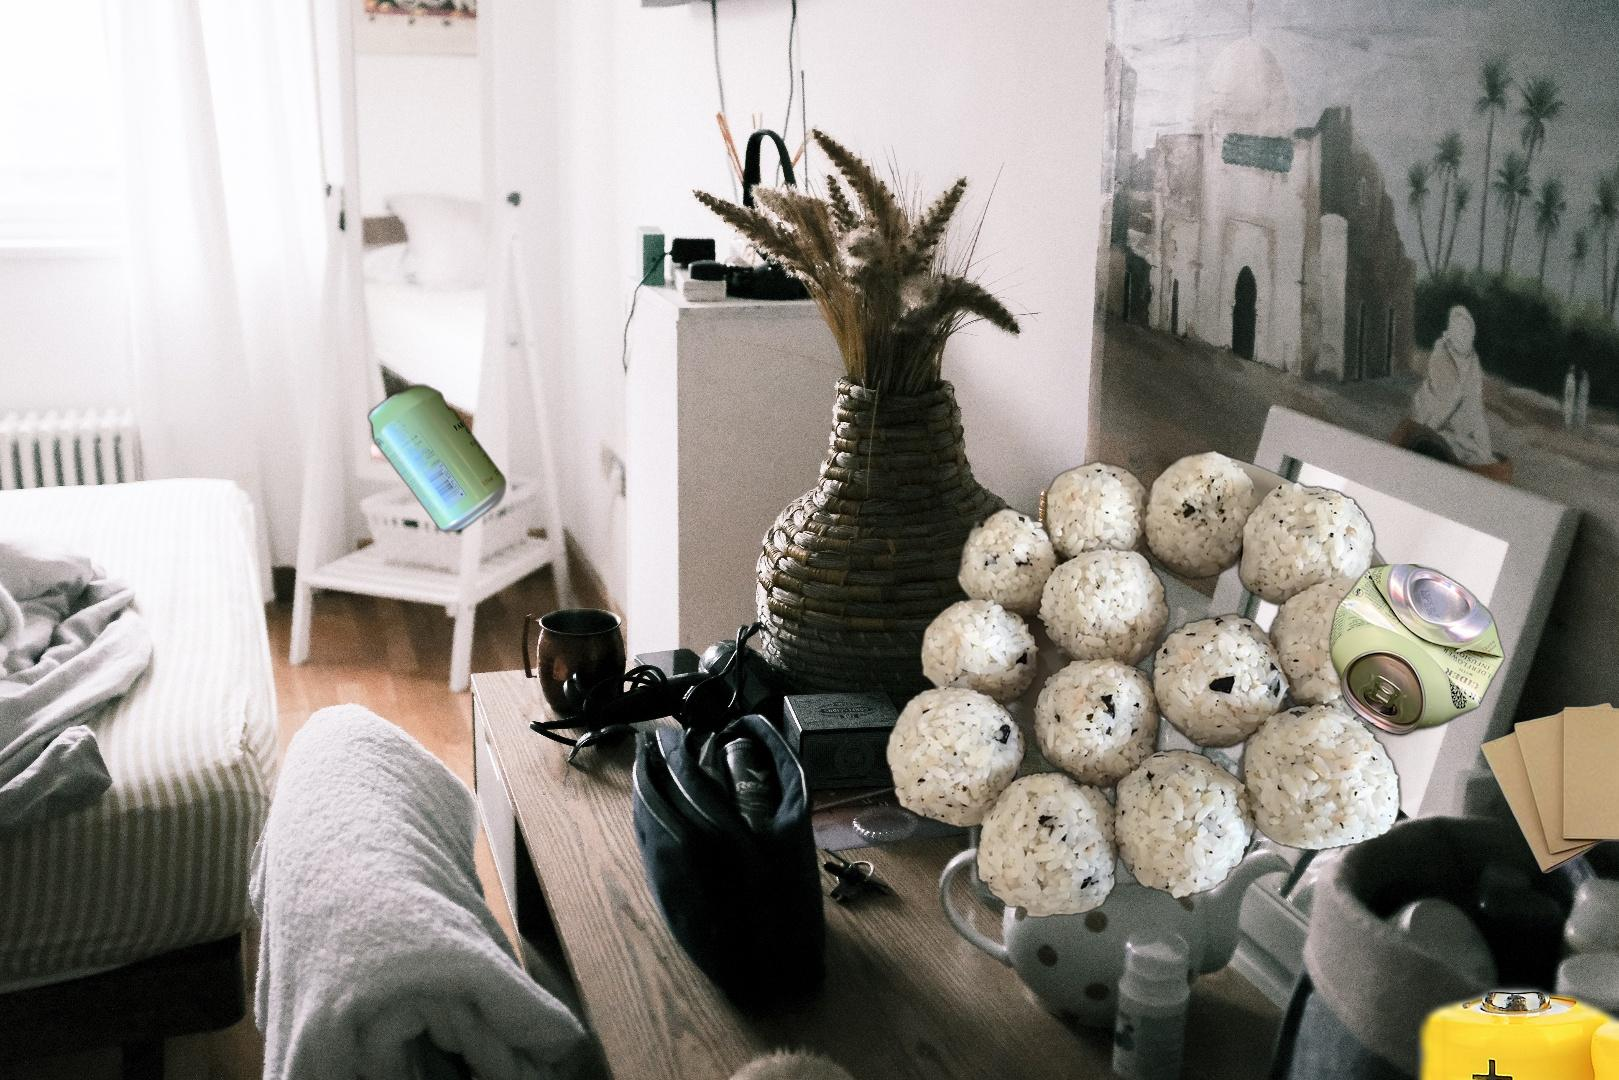battery: (1390, 969, 1619, 1080)
biological: (879, 446, 1433, 921)
metal-cans: (1325, 564, 1509, 742), (363, 378, 509, 538)
trashbox-cardboard: (1477, 699, 1619, 876)
